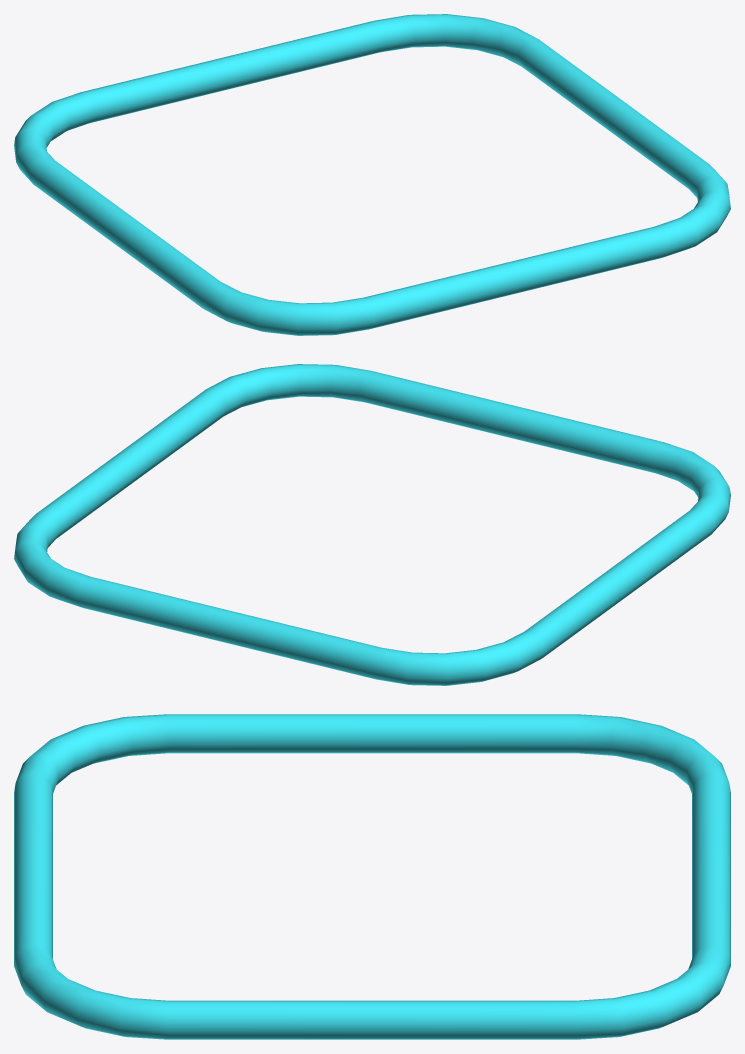
File: Rec_ring.fbx
3 views of the same model, one above another, from view 1: azimuth 30°, elevation 25°; view 2: azimuth 150°, elevation 25°; view 3: azimuth 270°, elevation 25° (orthographic). The views are drawn at different scales.
Visible parts, largest first — view 1: Rec_ring; view 2: Rec_ring; view 3: Rec_ring.
Part boxes in pixels (x1,y1,x2,y2): Rec_ring: (14, 14, 730, 335); Rec_ring: (14, 364, 730, 685); Rec_ring: (14, 714, 730, 1039).
Bounding box in the file's own units: 1057 × 57.53 × 1057.
